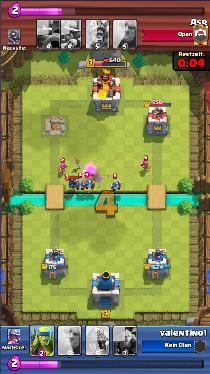enemy_archer: (141, 159, 150, 171), (58, 163, 68, 173)
enemy_mini_pekka: (68, 176, 77, 188)
enemy_minion: (111, 181, 121, 191), (86, 180, 95, 189), (80, 179, 88, 189)
